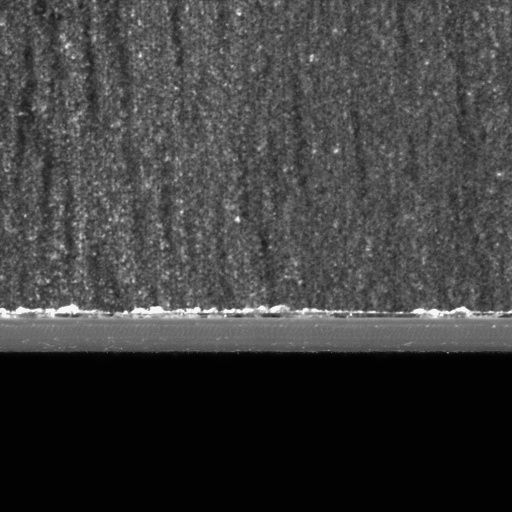jiaofeng: (316, 308, 422, 332), (193, 309, 296, 331), (54, 308, 130, 331)
